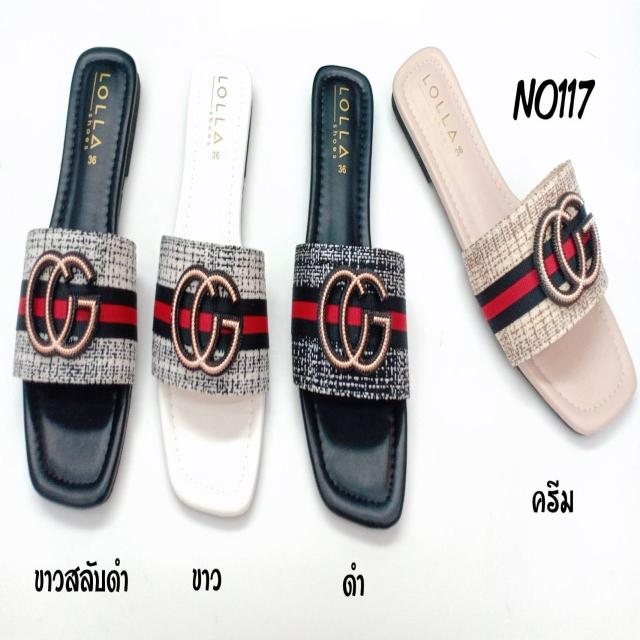black: (298, 67, 406, 528)
cream: (402, 47, 636, 439)
white: (160, 59, 271, 517)
white-black: (27, 39, 136, 506)
